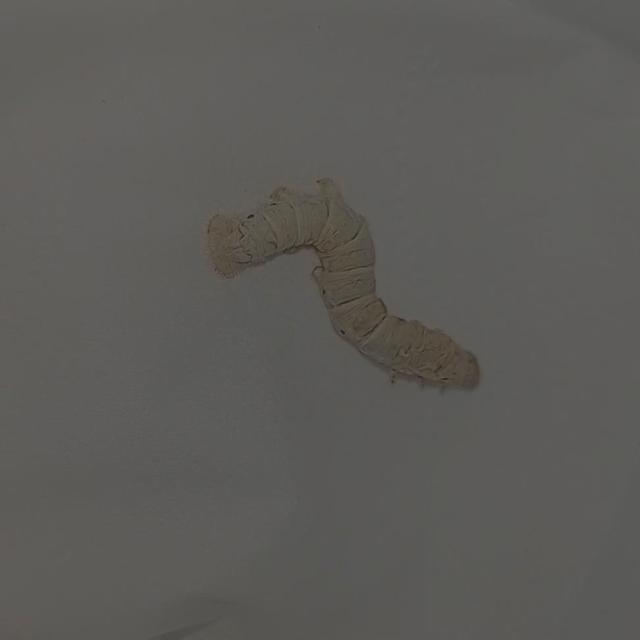Healthy: (174, 156, 500, 437)
